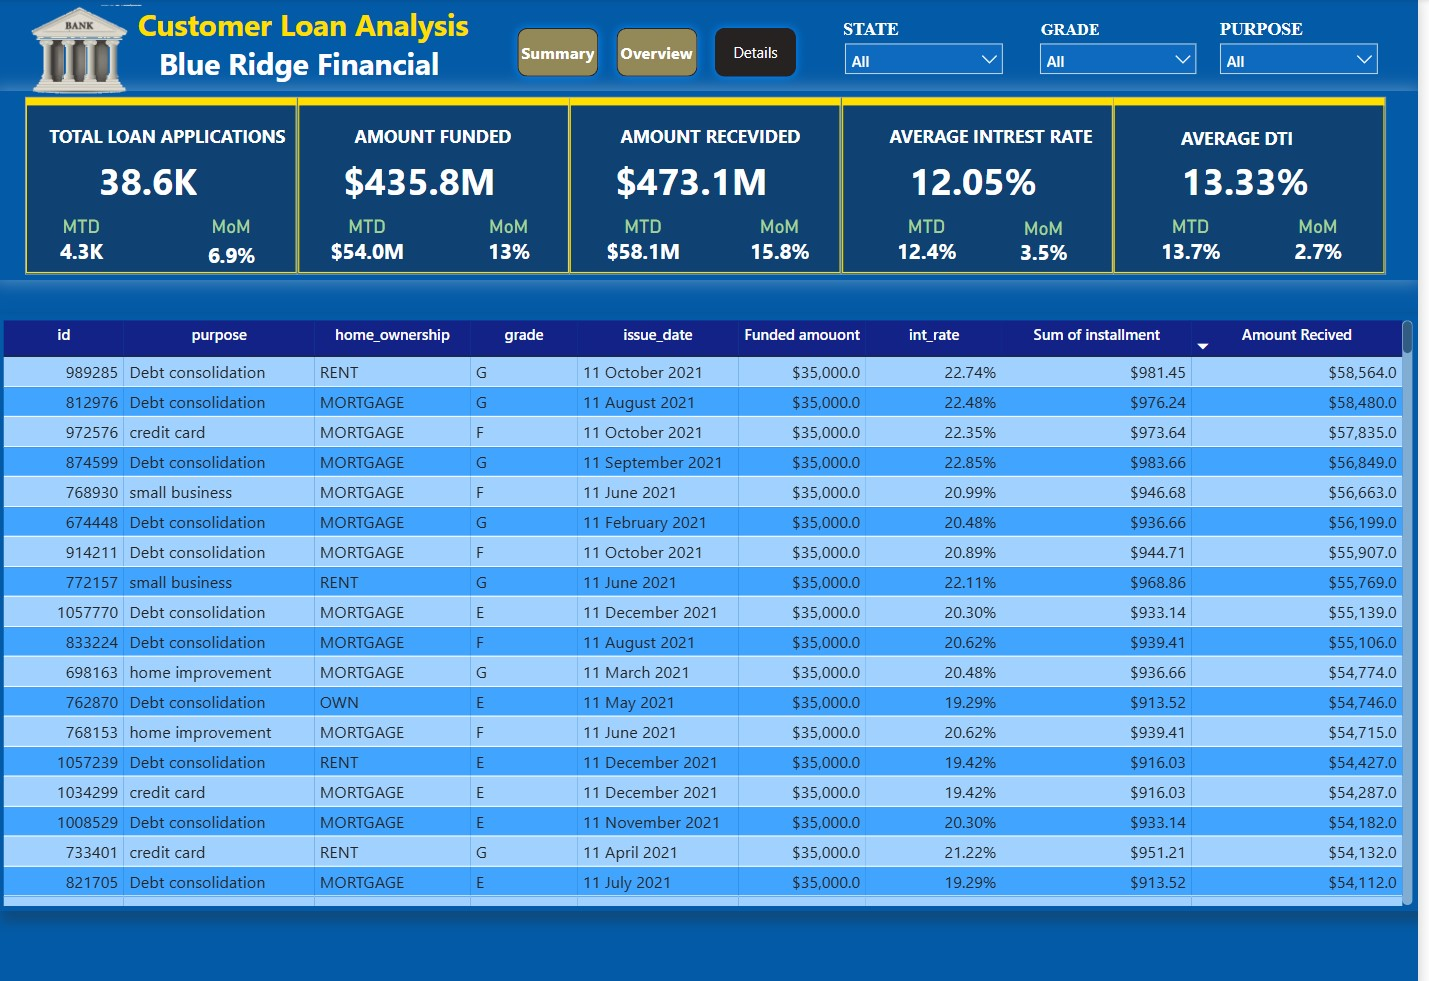

This screenshot's page, from the dashboard's own definition file:
{"tool":"powerbi","page":{"name":"Details","canvas":[1280,900],"ordinal":2},"visuals":[{"type":"textbox","box":[41.9,108.1,233.8,36.5],"z":0,"group":"g1"},{"type":"cardVisual","fields":{"Data":["financial_loan.Total_Loan_Applications","financial_loan.Funded amouont","financial_loan.Amount Recived","financial_loan.Avg Intrest Rate","financial_loan.Average Dti"]},"box":[0,83.8,1279.7,170.3],"z":0},{"type":"textbox","box":[275.7,108.1,233.8,36.5],"z":1000,"group":"g1"},{"type":"card","title":"MTD","fields":{"Values":["financial_loan.MTD"]},"box":[43.2,196.4,64.9,47.3],"z":1000},{"type":"textbox","box":[525.7,108.1,233.8,36.5],"z":2000,"group":"g1"},{"type":"card","title":"MoM","fields":{"Values":["financial_loan.MoM"]},"box":[174.3,196.4,73,54.1],"z":2000},{"type":"textbox","box":[778.4,108.1,233.8,36.5],"z":3000,"group":"g1"},{"type":"group","id":"g1","title":"Group 1","box":[41.9,108.1,1191.9,37.8],"z":3000},{"type":"textbox","box":[1000,109.5,233.8,36.5],"z":4000,"group":"g1"},{"type":"card","title":"MTD","fields":{"Values":["financial_loan.MTD_Funded"]},"box":[289.2,196.4,87.8,47.3],"z":4000},{"type":"card","title":"MoM","fields":{"Values":["financial_loan.momFunded"]},"box":[424.3,196.4,73,47.3],"z":5000},{"type":"card","title":"MTD","fields":{"Values":["financial_loan.MTD_Recevied"]},"box":[537.8,196.4,87.8,47.3],"z":6000},{"type":"card","title":"MoM","fields":{"Values":["financial_loan.MOM_Recieveid"]},"box":[659.5,196.4,90.5,47.3],"z":7000},{"type":"card","title":"MTD","fields":{"Values":["financial_loan.MTD_IntrestRate"]},"box":[793.2,196.4,87.8,47.3],"z":8000},{"type":"card","title":"MoM","fields":{"Values":["financial_loan.MOM_intrest"]},"box":[897.3,197.7,90.5,47.3],"z":9000},{"type":"card","title":"MTD","fields":{"Values":["financial_loan.MTD_DTI"]},"box":[1031.1,196.4,87.8,47.3],"z":10000},{"type":"card","title":"MoM","fields":{"Values":["financial_loan.Mom_DTI"]},"box":[1144.6,196.4,90.5,47.3],"z":11000},{"type":"slicer","fields":{"Values":["financial_loan.address_state"]},"box":[754.5,31.1,162.2,66.2],"z":12000},{"type":"slicer","fields":{"Values":["financial_loan.grade"]},"box":[930.2,31.1,160.8,66.2],"z":13000},{"type":"slicer","fields":{"Values":["financial_loan.purpose"]},"box":[1092.3,31.1,162.2,66.2],"z":14000},{"type":"textbox","box":[718,13.5,139.2,51.4],"z":15000},{"type":"textbox","box":[897.7,13.5,139.2,51.4],"z":16000},{"type":"textbox","box":[1055.9,13.5,139.2,51.4],"z":17000},{"type":"tableEx","fields":{"Values":["financial_loan.id","financial_loan.purpose","financial_loan.home_ownership","financial_loan.grade","financial_loan.issue_date","financial_loan.Funded amouont","financial_loan.int_rate","Sum(financial_loan.installment)","financial_loan.Amount Recived"]},"box":[0,285.7,1280,537.1],"z":18000},{"type":"image","box":[2.7,0,143.2,95.9],"z":19000},{"type":"textbox","box":[95.9,18.9,386.5,93.2],"z":20000},{"type":"pageNavigator","box":[461.4,18.6,268.6,60],"z":21000}]}

Visuals, with their boxes in screenshot pixels (x1, y1, x2, y2), scaled from the page's 1280x900 canvas onto the 1429x981 screenshot:
textbox: select_region(47, 118, 308, 158)
cardVisual - financial_loan.Total_Loan_Applications x financial_loan.Funded amouont: select_region(0, 91, 1428, 277)
textbox: select_region(308, 118, 569, 158)
"MTD" card: select_region(48, 214, 121, 266)
textbox: select_region(587, 118, 848, 158)
"MoM" card: select_region(195, 214, 276, 273)
textbox: select_region(869, 118, 1130, 158)
"Group 1" group: select_region(47, 118, 1377, 159)
textbox: select_region(1116, 119, 1377, 159)
"MTD" card: select_region(323, 214, 421, 266)
"MoM" card: select_region(474, 214, 555, 266)
"MTD" card: select_region(600, 214, 698, 266)
"MoM" card: select_region(736, 214, 837, 266)
"MTD" card: select_region(886, 214, 984, 266)
"MoM" card: select_region(1002, 215, 1103, 267)
"MTD" card: select_region(1151, 214, 1249, 266)
"MoM" card: select_region(1278, 214, 1379, 266)
slicer - financial_loan.address_state: select_region(842, 34, 1023, 106)
slicer - financial_loan.grade: select_region(1038, 34, 1218, 106)
slicer - financial_loan.purpose: select_region(1219, 34, 1401, 106)
textbox: select_region(802, 15, 957, 71)
textbox: select_region(1002, 15, 1158, 71)
textbox: select_region(1179, 15, 1334, 71)
tableEx - financial_loan.id x financial_loan.purpose: select_region(0, 311, 1428, 897)
image: select_region(3, 0, 163, 105)
textbox: select_region(107, 21, 539, 122)
pageNavigator: select_region(515, 20, 815, 86)
